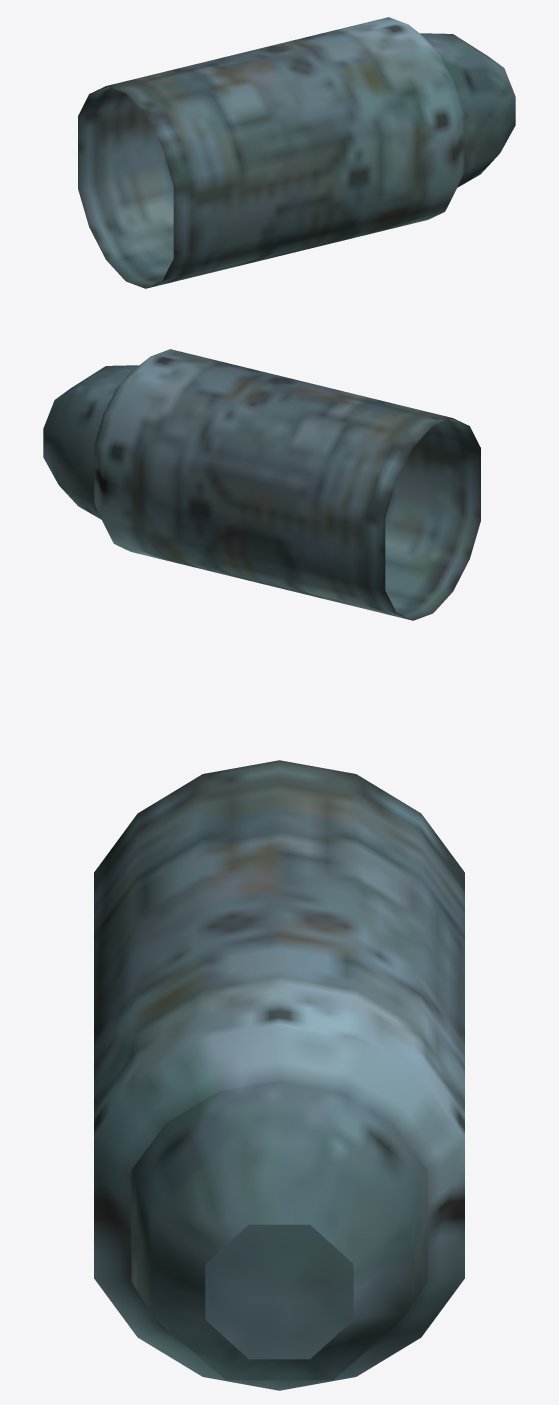
The model's file is ship_component_engine_s01_l2.fbx.
3 renders of one model, top to bottom at view 1: azimuth 30°, elevation 25°; view 2: azimuth 150°, elevation 25°; view 3: azimuth 270°, elevation 25°, orthographic. The views are drawn at different scales.
Visible parts, largest first — view 1: mesh_node; view 2: mesh_node; view 3: mesh_node.
Boxes of the visible parts, box(x1,y1,x2,y2) form: mesh_node: box(78, 17, 515, 288); mesh_node: box(43, 349, 480, 620); mesh_node: box(94, 760, 464, 1390).
Bounding box in the file's own units: 2.8 × 1.19 × 1.32.
